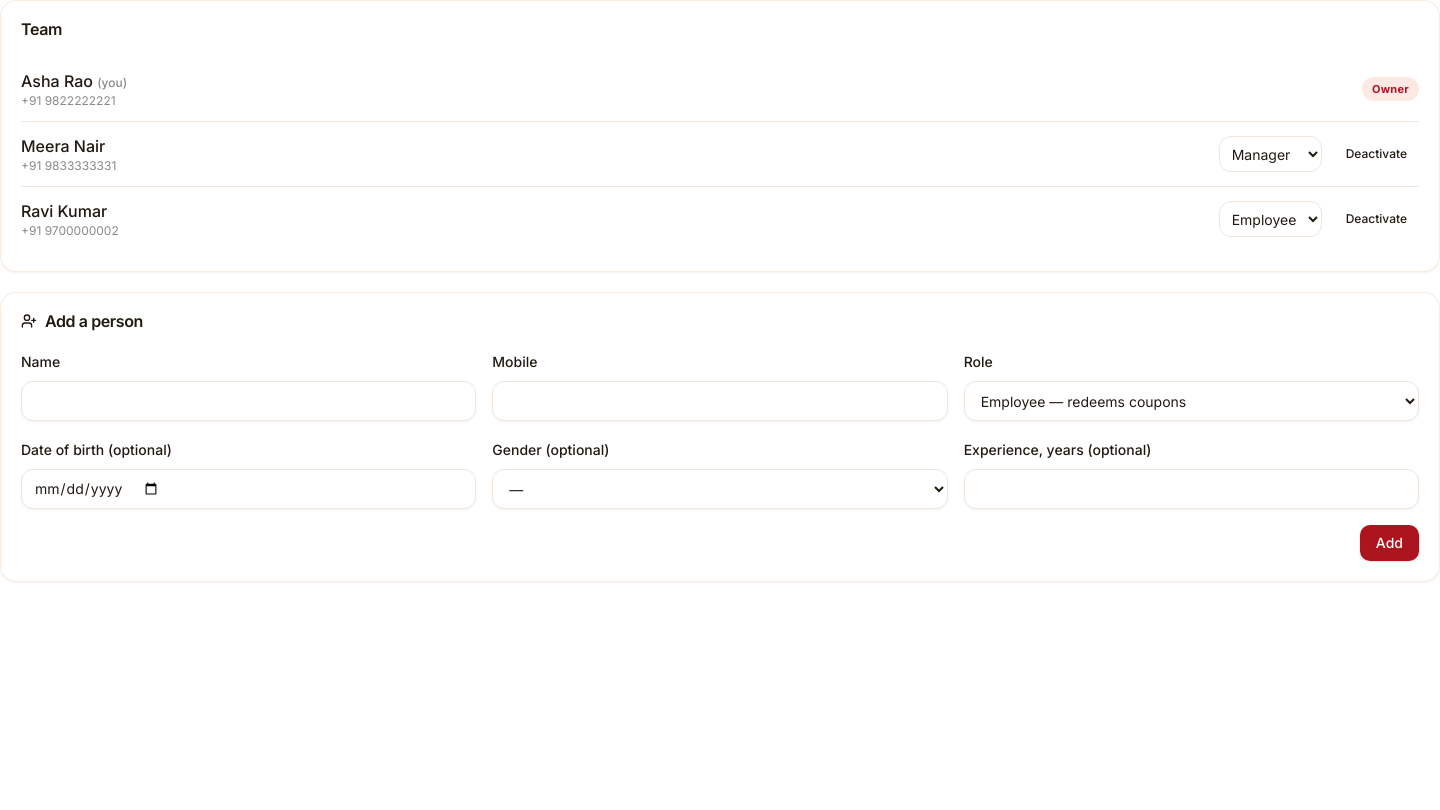
Test: Profile — team › a refused change shows the server's reason (e.g. the last owner)
Select "Employee" in the dropdown named "Role of Meera Nair" at [1270, 154], box [1219,136,1322,172]
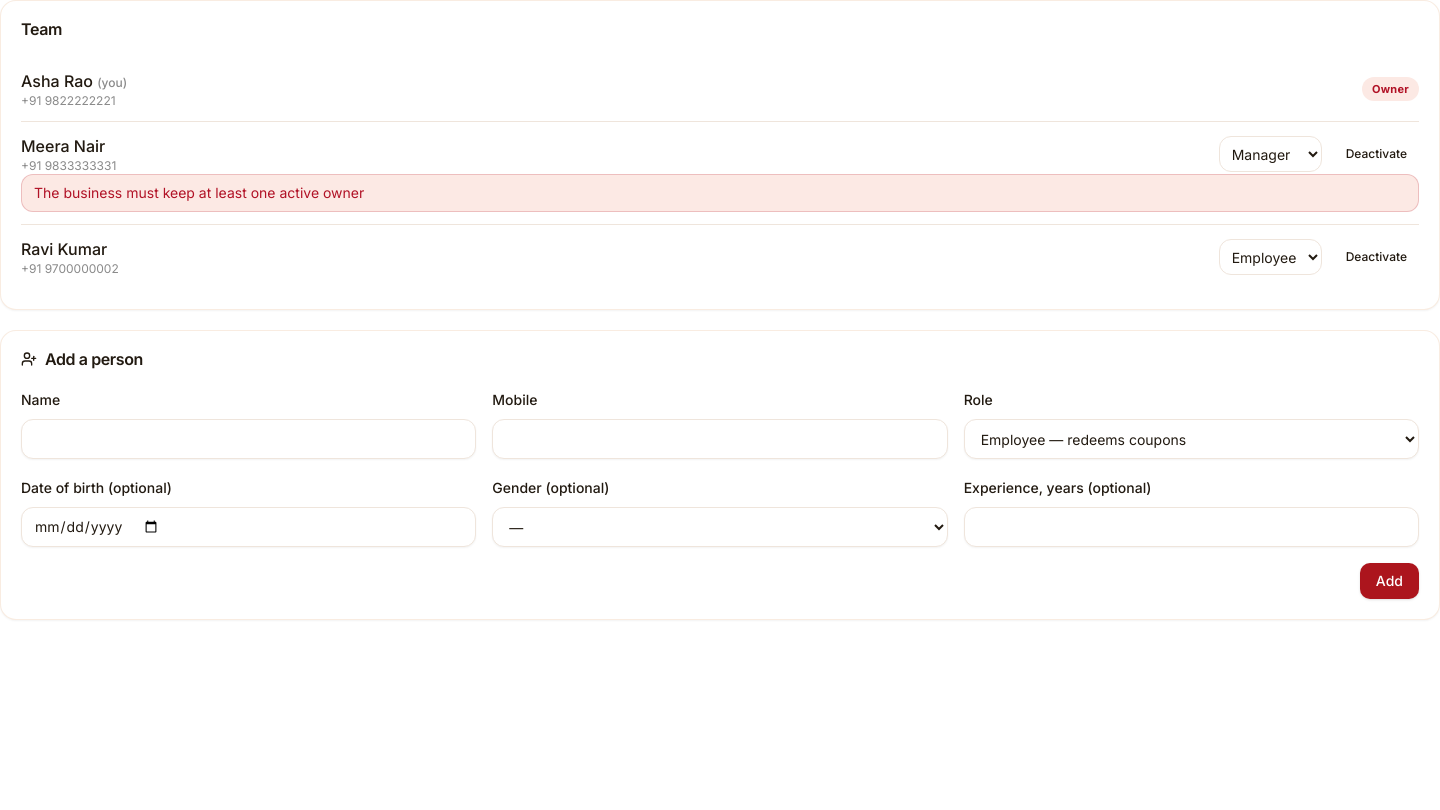
Check: the message shows "at least one active owner", box [34,184,364,201]
